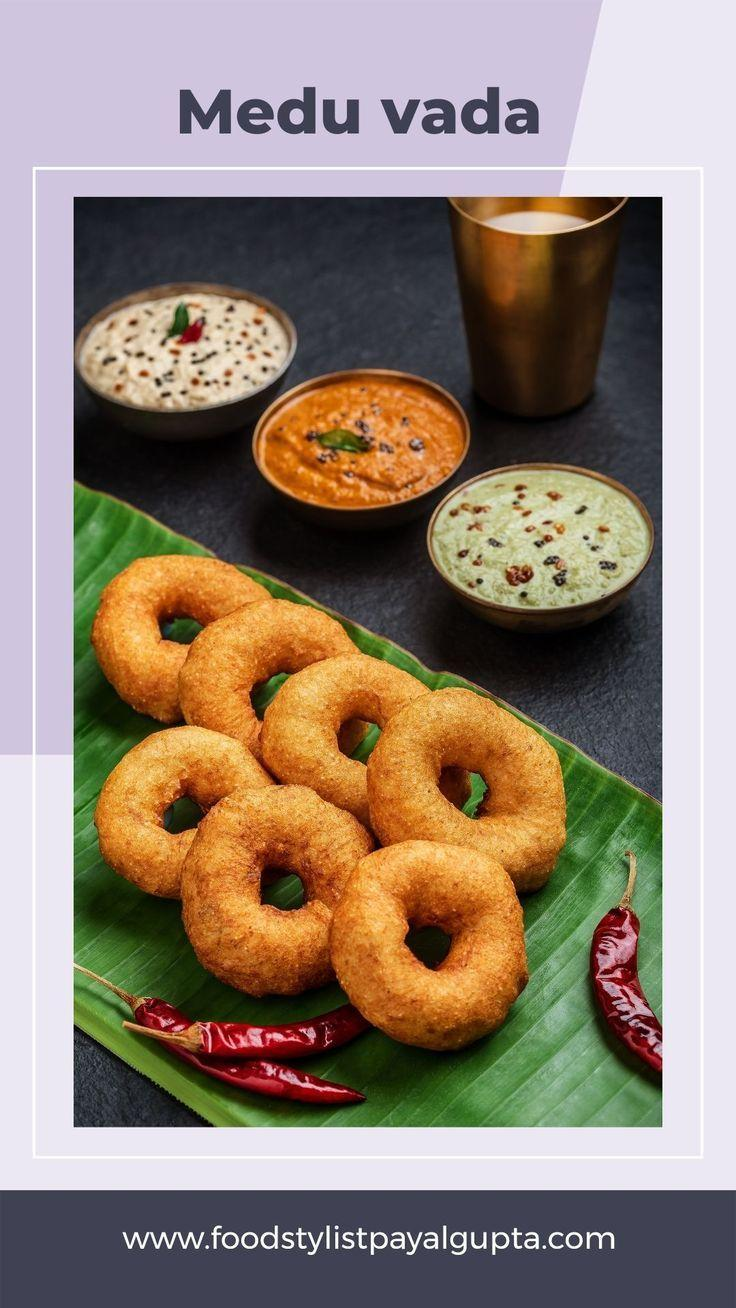coconut chutney: (72, 300, 312, 415), (452, 492, 643, 614)
medu vada: (82, 604, 564, 1049)
